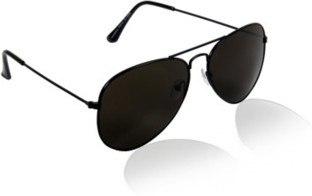sunglasses: (0, 0, 276, 155)
